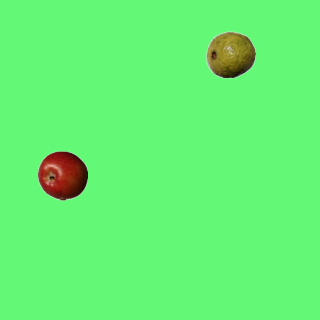Apple Braeburn: (37, 150, 87, 200)
Guava: (205, 29, 255, 79)
